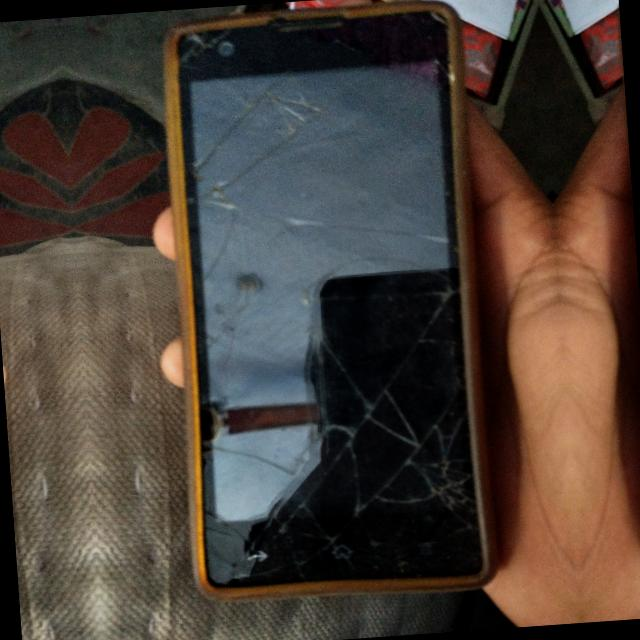phone_screen: (179, 13, 481, 585)
